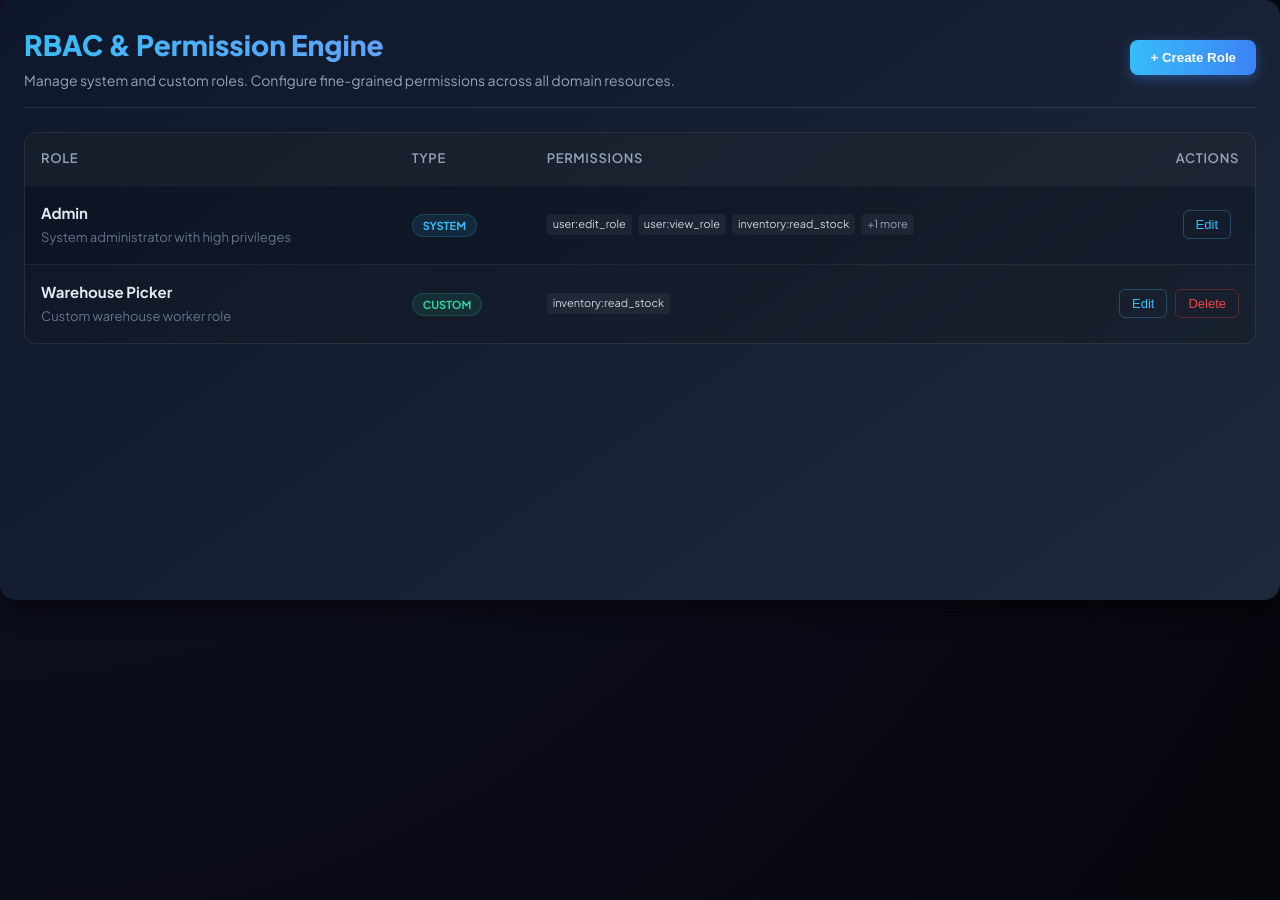
it: RoleManagementPanel › opens edit permissions form, toggles permissions, and saves changes
expect the text "Admin" is shown: met, box [41,202,88,222]
What coordinates should you click on to do the following:
click the button with aria-label "Edit role Warehouse Picker"
I would click on:
 (1143, 304)
Its box is [1119,289,1167,318].
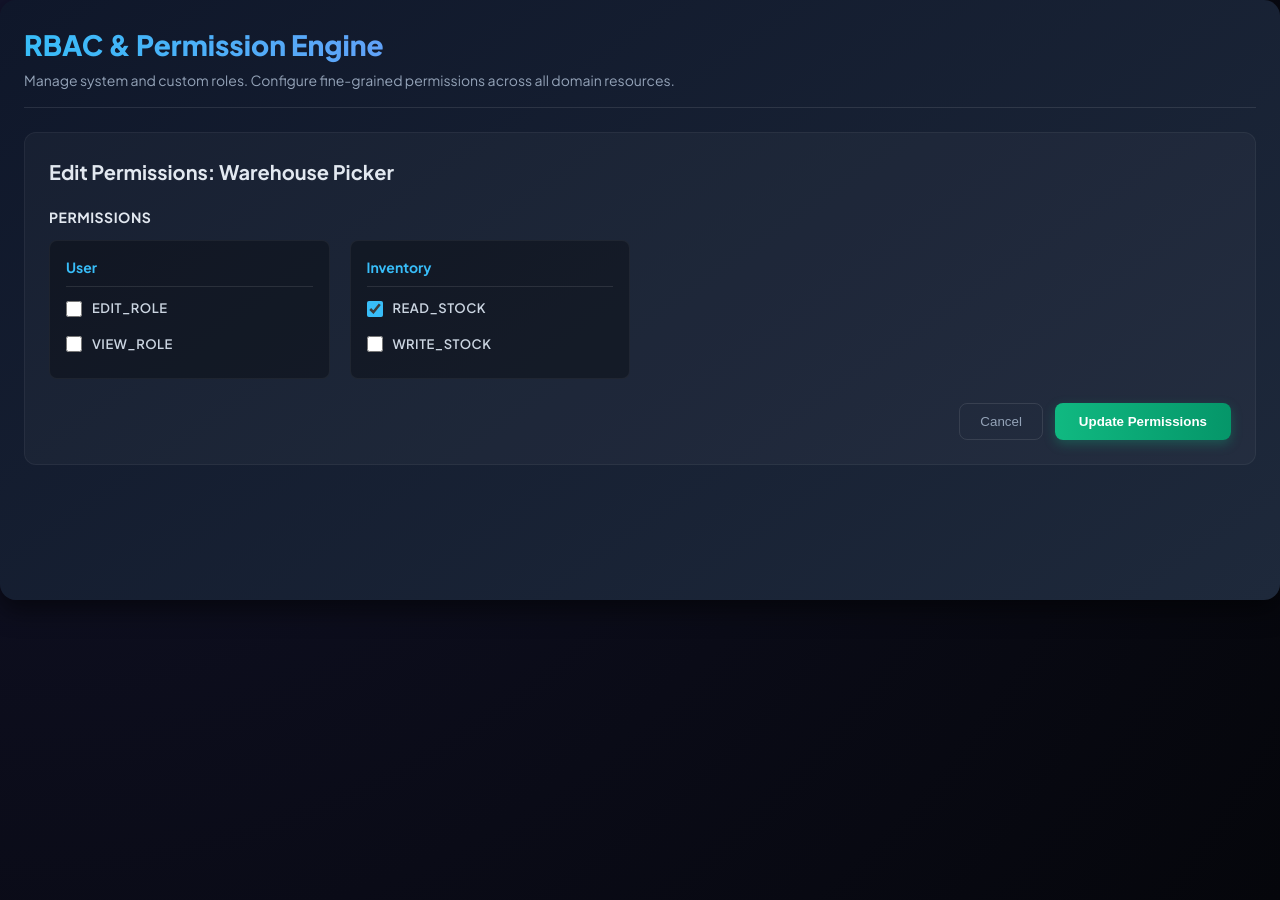
expect the heading "Edit Permissions: Warehouse Picker" is shown: met, box [49,159,394,184]
expect the checkbox labelled "read_stock" is checked: met, box [366,301,382,317]
expect the checkbox labelled "write_stock" is not checked: met
Note: Toggle permissions
What coordinates should you click on to do the following:
click the checkbox labelled "write_stock"
I would click on:
 (374, 344)
Its box is [366,336,382,352].
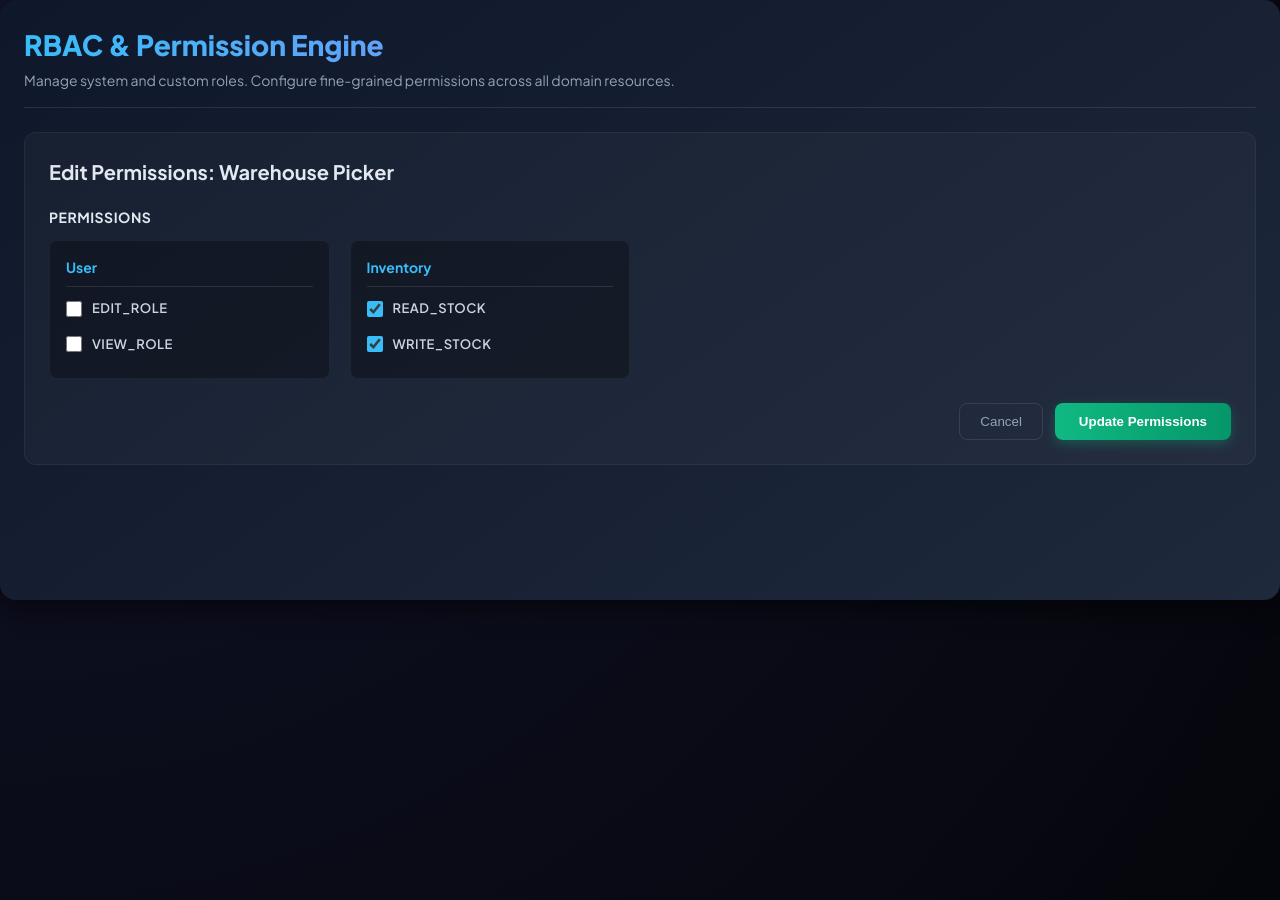
What coordinates should you click on to do the following:
click the checkbox labelled "read_stock"
I would click on:
 (374, 309)
Its box is [366,301,382,317].
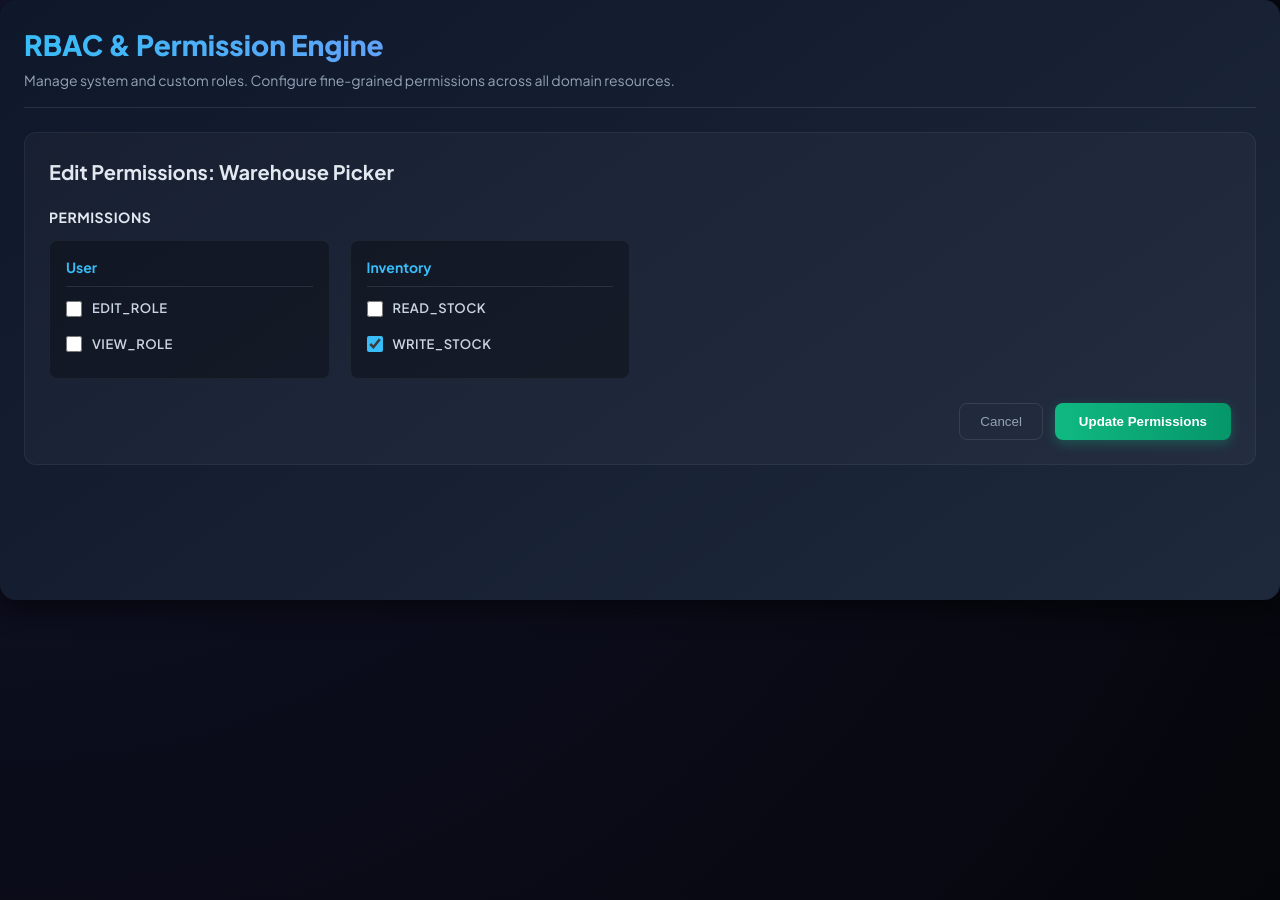
What coordinates should you click on to do the following:
click the button "Update Permissions"
I would click on:
 (1143, 422)
Its box is [1055,403,1231,440].
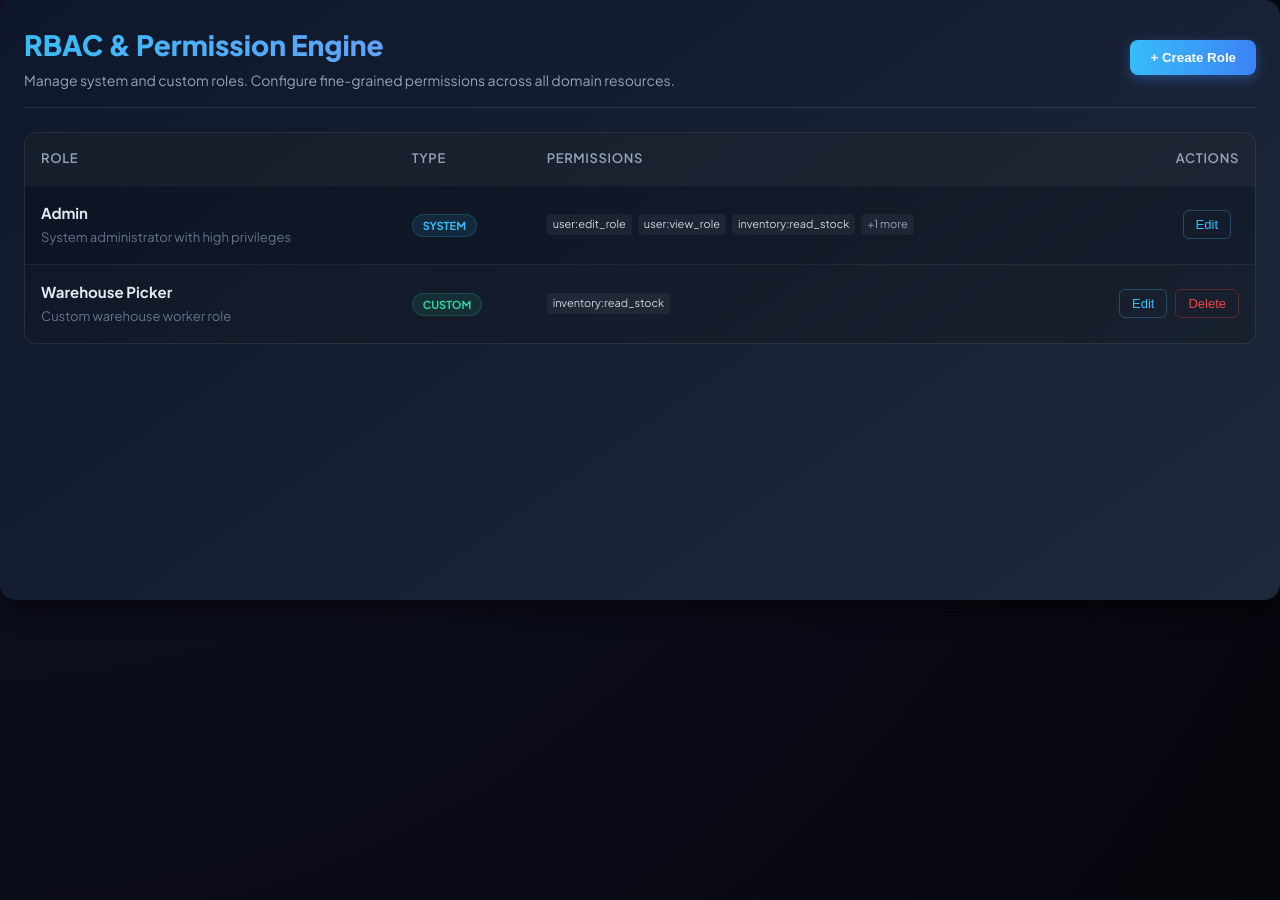
expect the heading "Edit Permissions: Warehouse Picker" is gone: met
